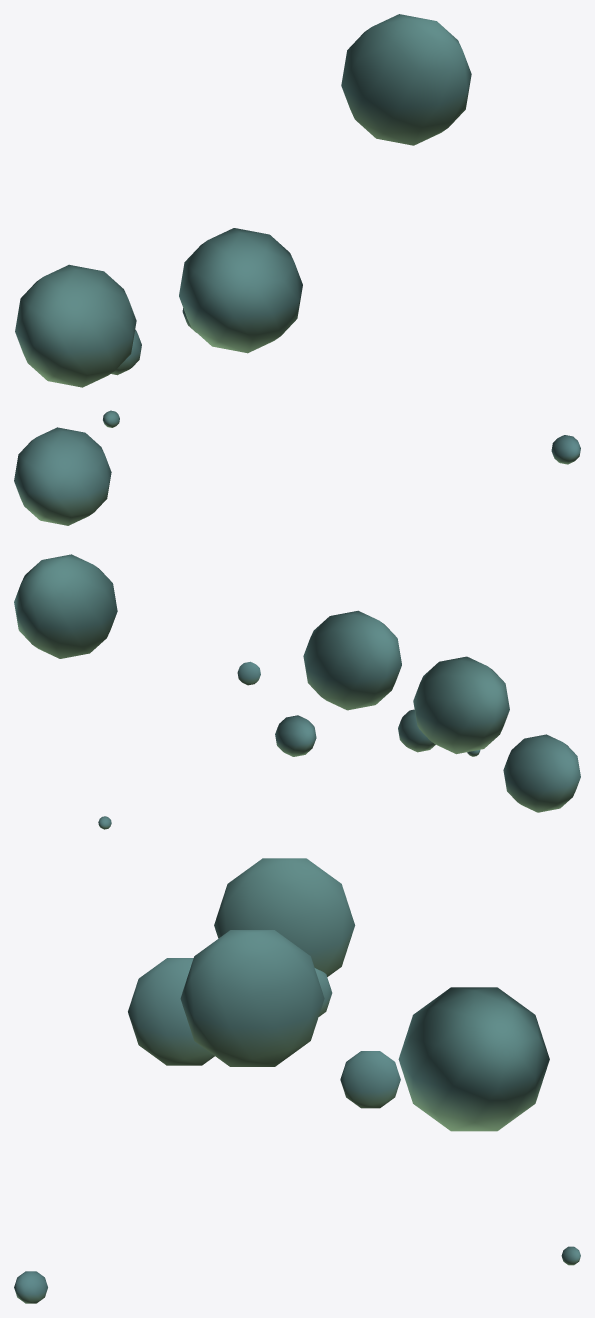
Rendered from bush_a.glb.
The picture shows the model from 3 angles, top to bottom: view 1: azimuth 30°, elevation 25°; view 2: azimuth 150°, elevation 25°; view 3: azimuth 270°, elevation 25°; orthographic projection. The views are drawn at different scales.
Parts seen in each view (by area): view 1: bush_a_LOD0; view 2: bush_a_LOD0; view 3: bush_a_LOD0.
Part boxes in pixels (left/top/right/bottom): bush_a_LOD0: left=14, top=14, right=580, bottom=525; bush_a_LOD0: left=14, top=554, right=580, bottom=829; bush_a_LOD0: left=14, top=858, right=580, bottom=1303.
Size of what is drawn, in the model's own units: 1.19 by 0.5873 by 0.9045.
